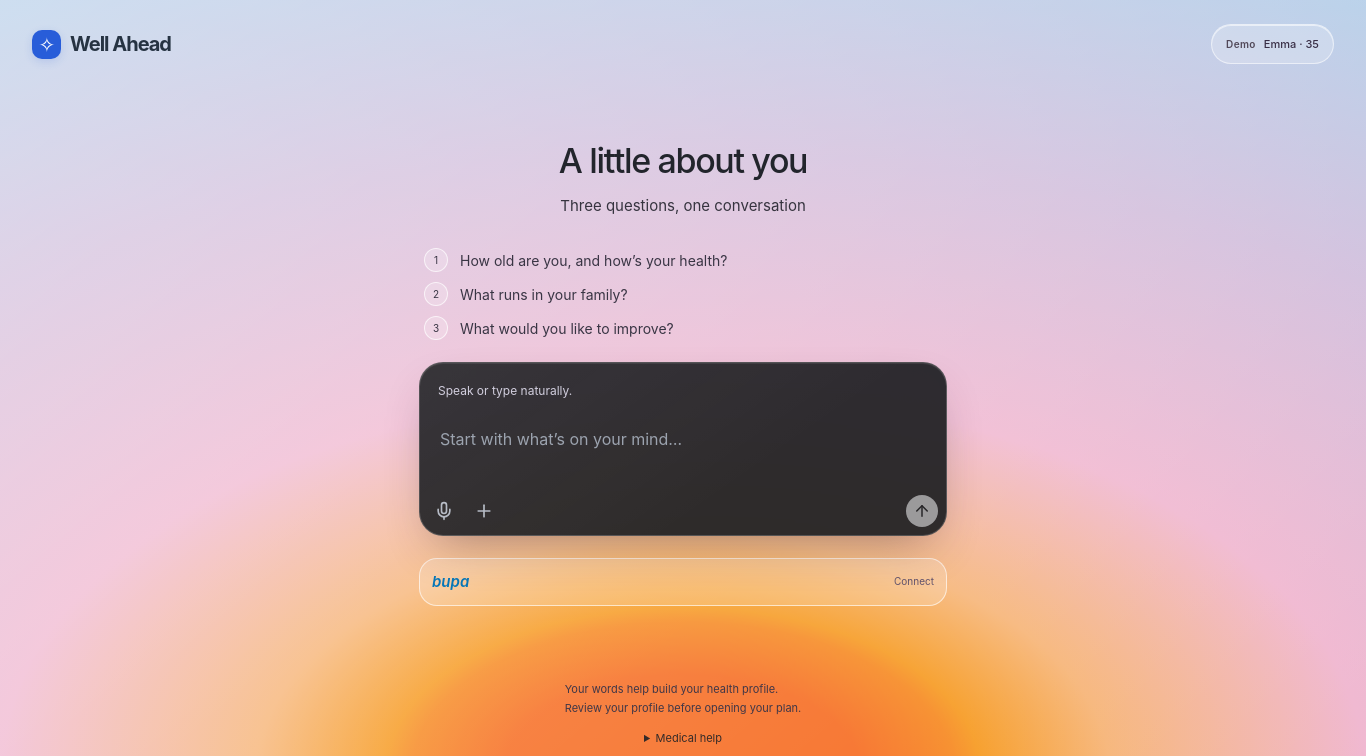
adding a record to Emma uses the backend rather than ignoring new health information
This screenshot has width=1366, height=756.
Click the button with aria-label "Emma demo, age 35" at (1272, 44), box [1211,24,1334,64]
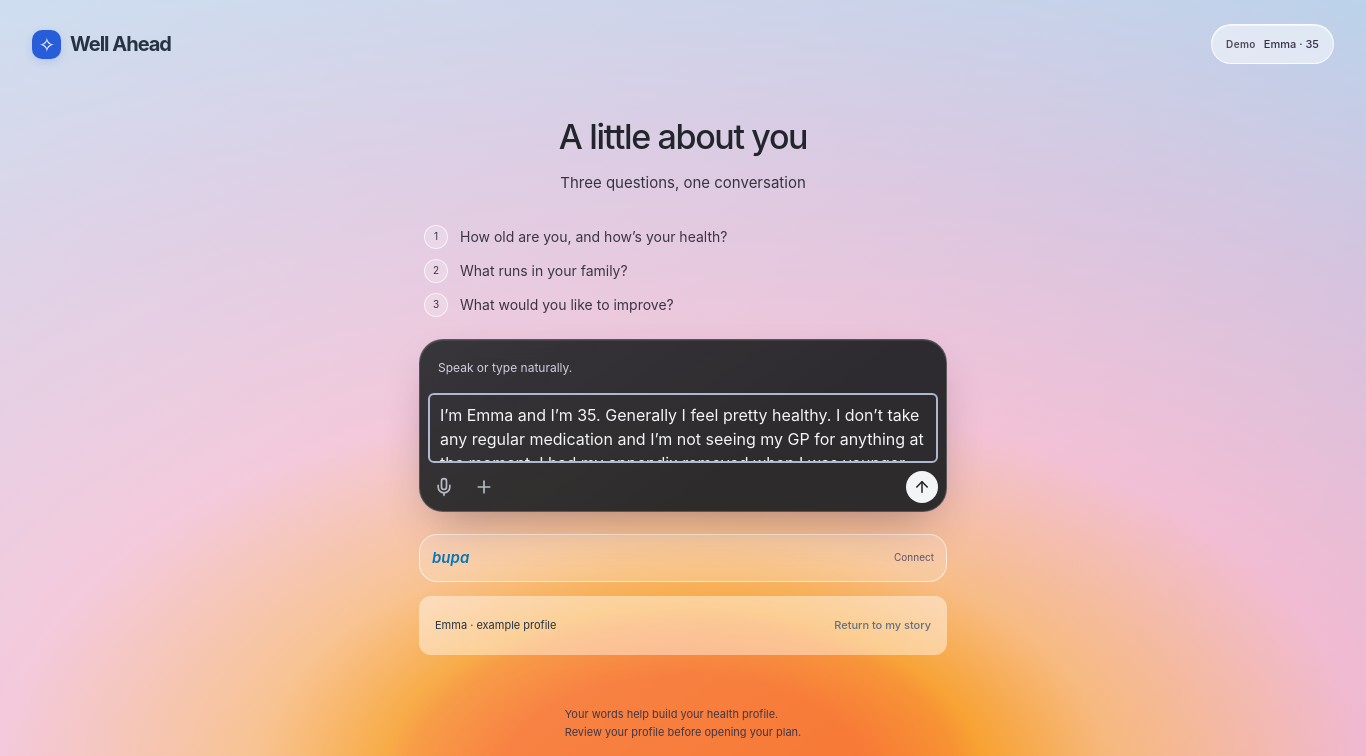
Click the button named "Add a record" at (484, 487), box [468,471,500,503]
(page scrolled)
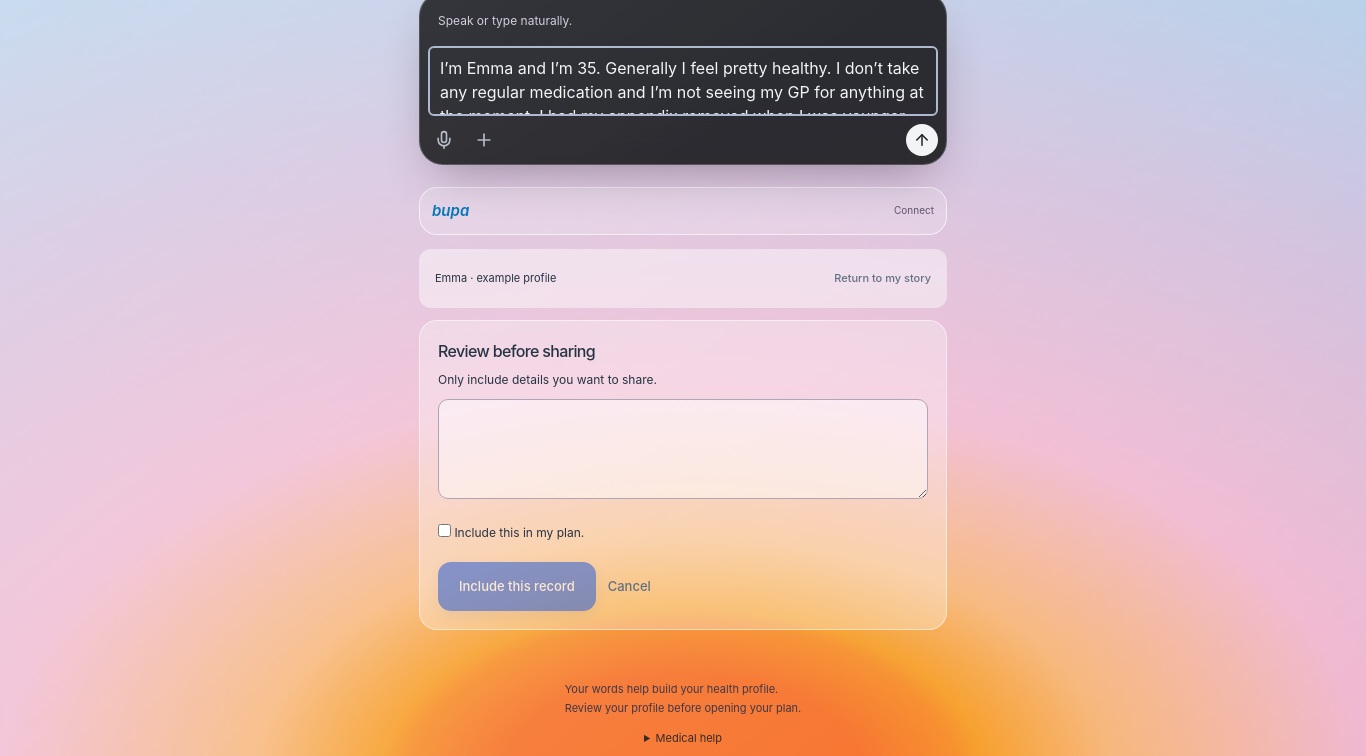
Type "Additional test note." into the text box labelled "Only include details you want to share." at (683, 449), box [438,399,928,499]
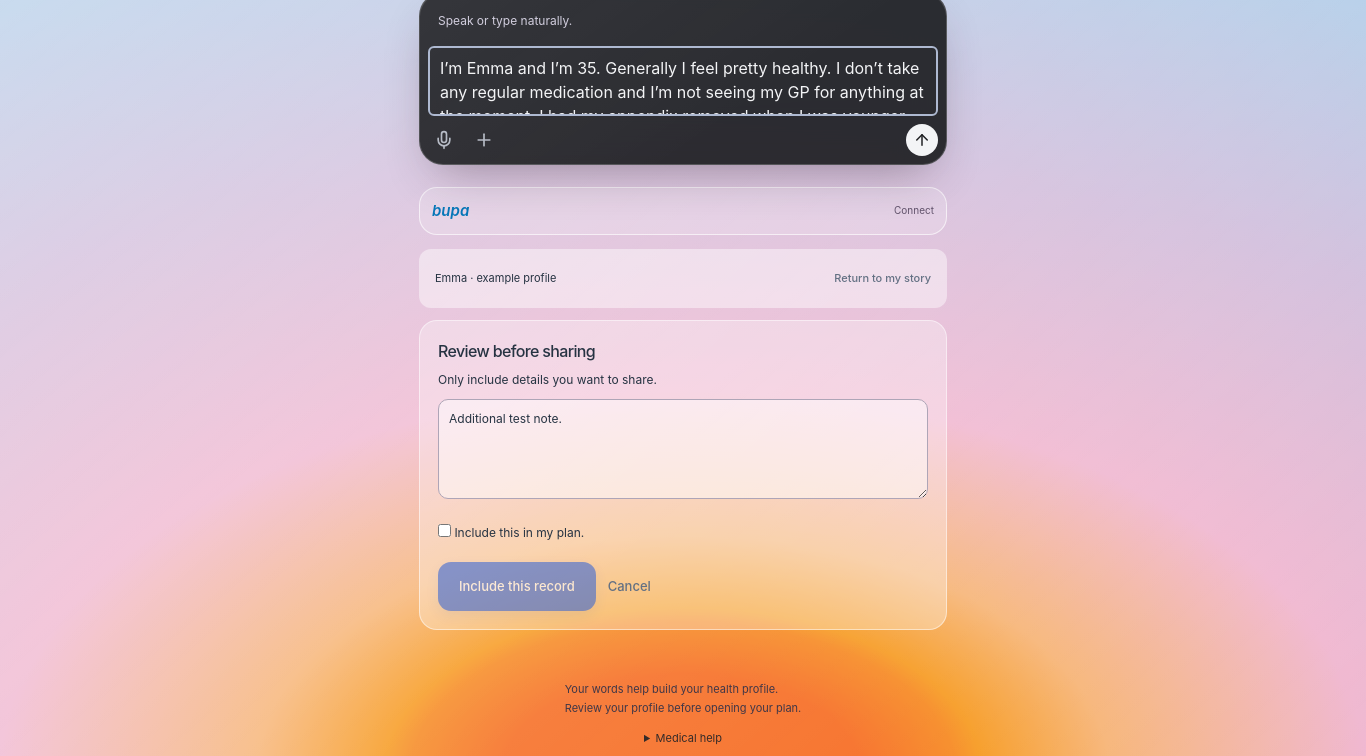
Click the checkbox labelled "Include this in my plan." at (444, 530), box [438,524,451,537]
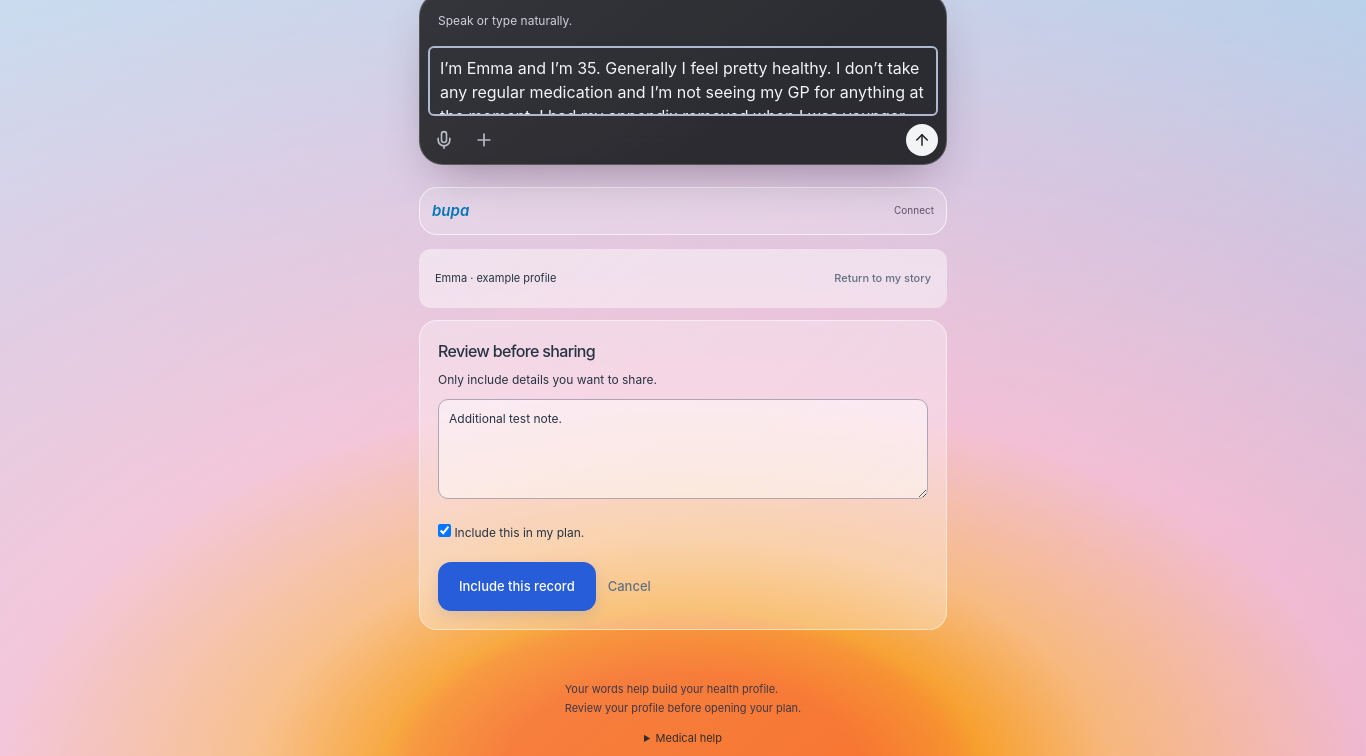
Click the button "Include this record" at (517, 586), box [438,562,596,611]
(page scrolled)
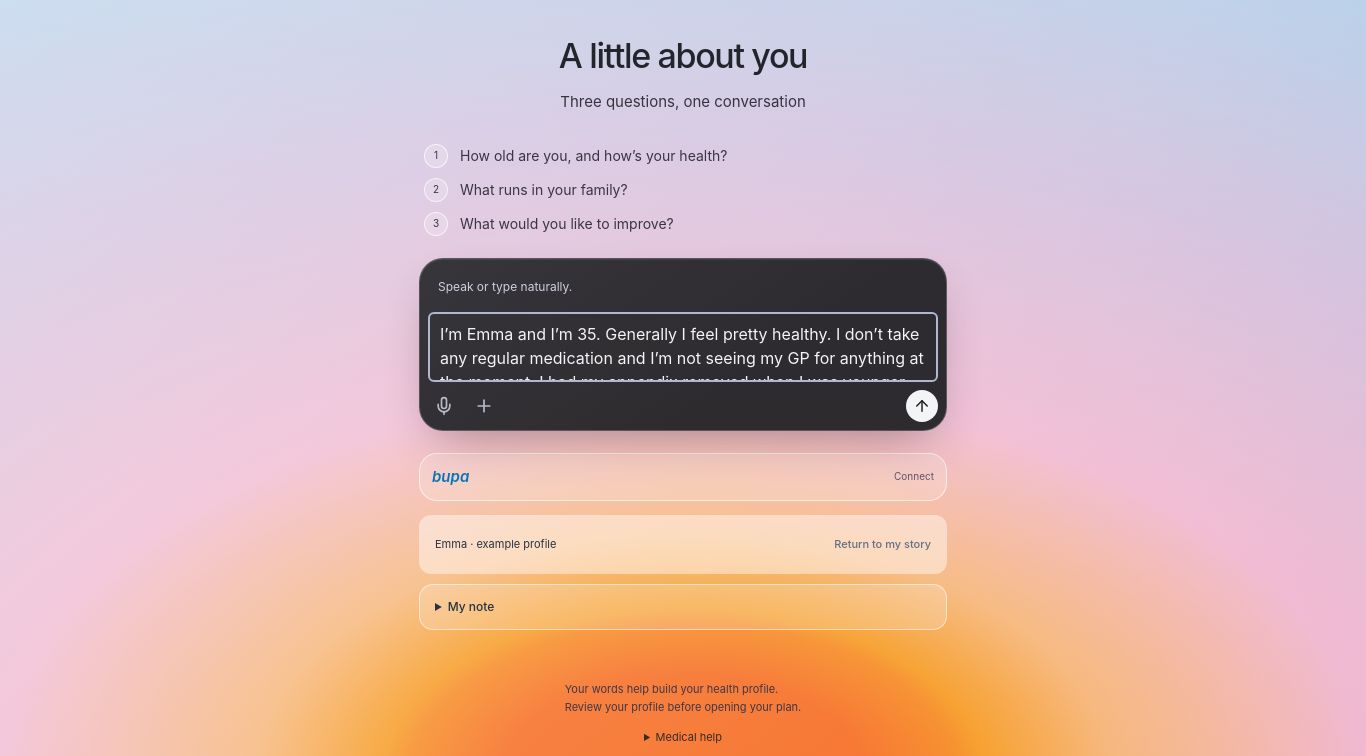
Click the button named "Review my health profile" at (922, 406), box [906,390,938,422]
(page scrolled)
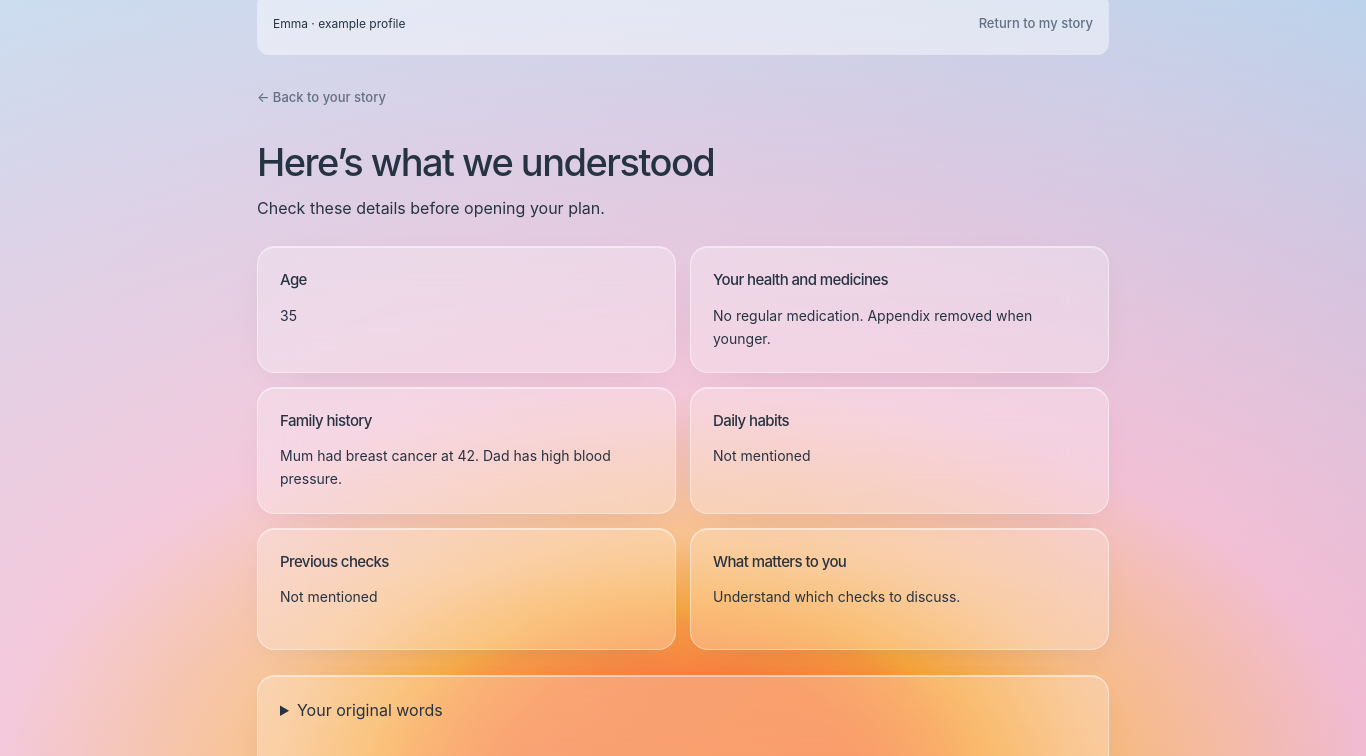
Expected: the heading "Here’s what we understood" is shown, [257,139,714,185]
